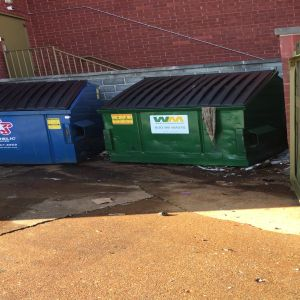Dumpster: (95, 67, 282, 168), (1, 80, 99, 166)
